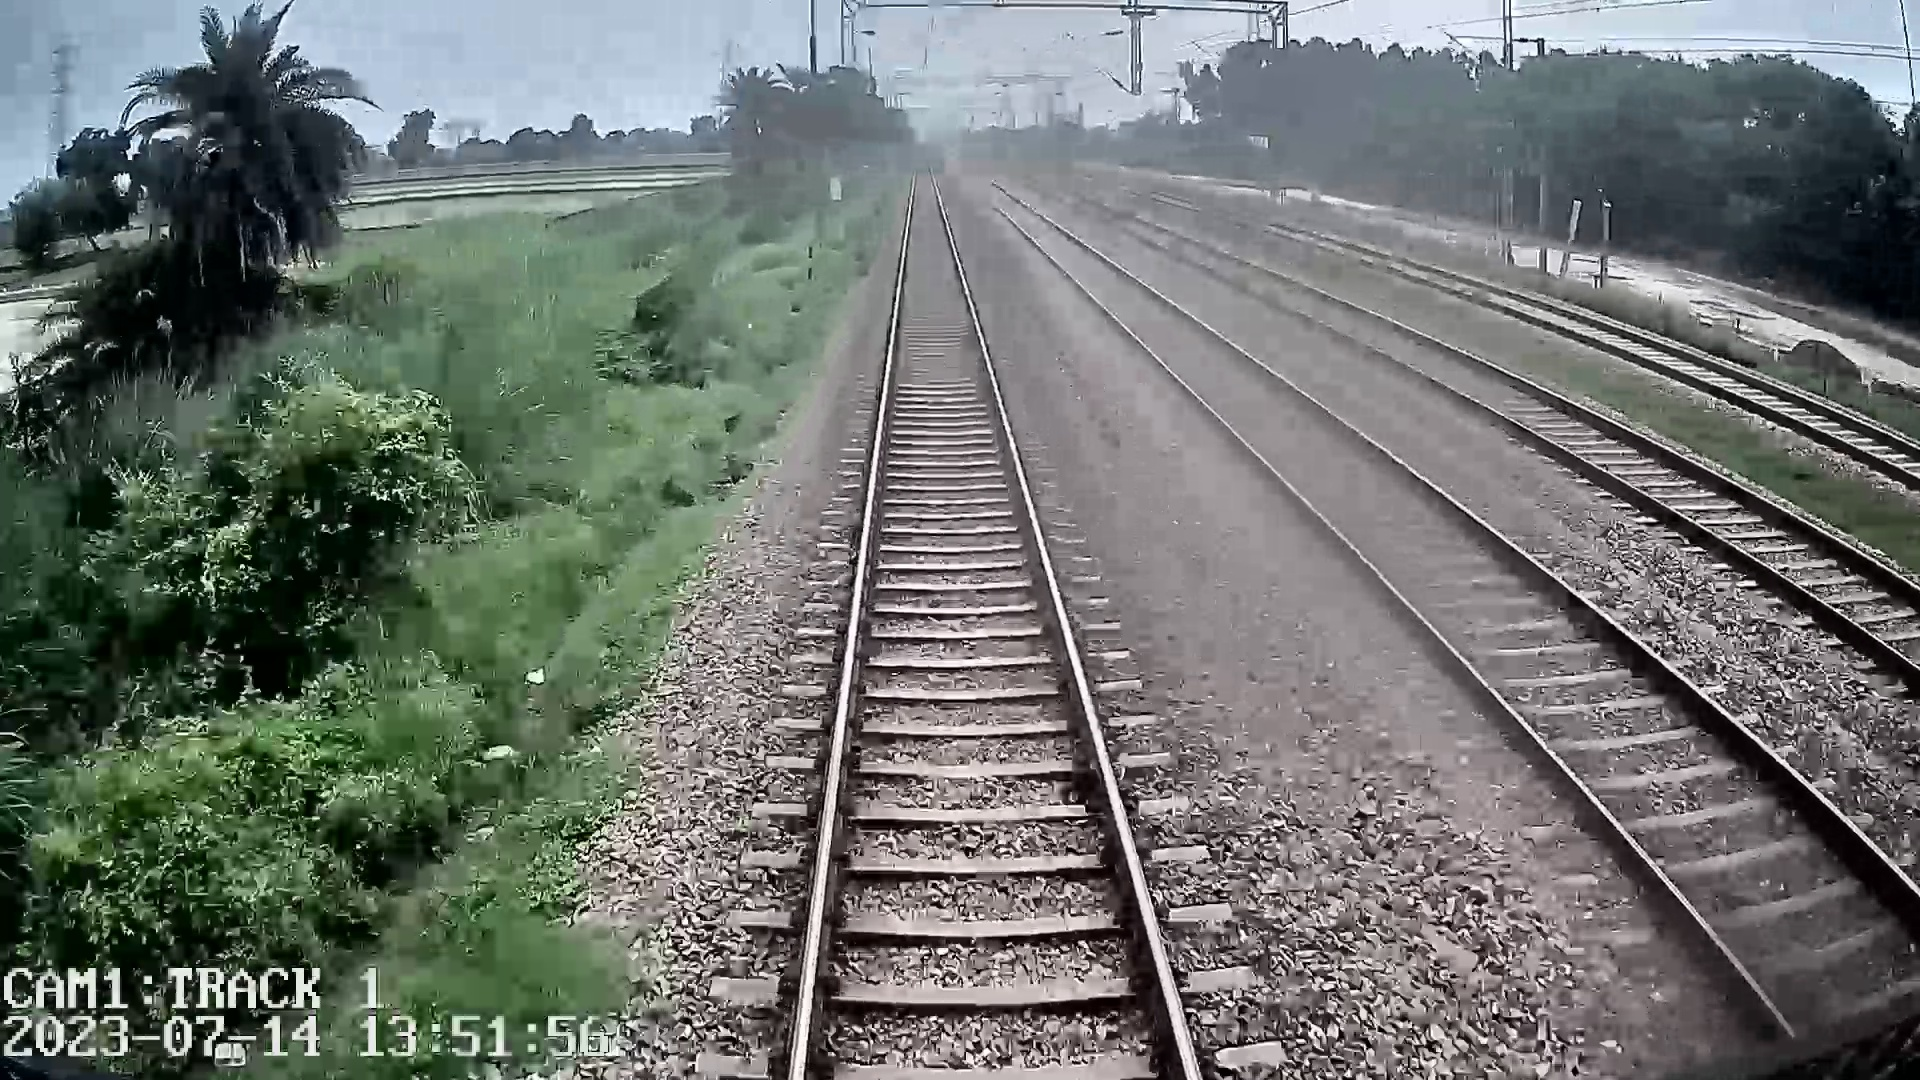track1: (802, 189, 1187, 1051)
track2: (1017, 216, 1908, 1015)
track3: (1182, 251, 1916, 661)
track4: (1375, 252, 1915, 471)
